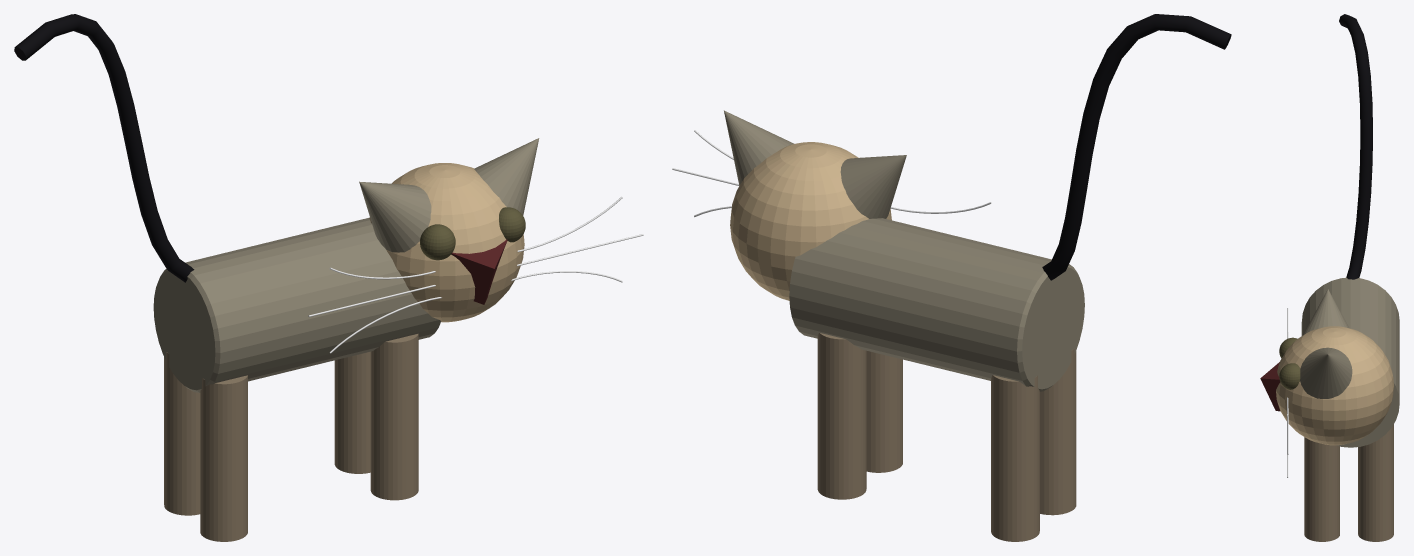
The model's file is Jira_cat.fbx.
3 views of the same model, side by side, from view 1: azimuth 30°, elevation 25°; view 2: azimuth 150°, elevation 25°; view 3: azimuth 270°, elevation 25° (orthographic). The views are drawn at different scales.
Parts seen in each view (by area): view 1: Cylinder, Cylinder.001, Sphere, Sphere.001, BézierCurve, Sphere.002, Cube; view 2: Cylinder, Cylinder.001, Sphere, BézierCurve, Sphere.001; view 3: Sphere, Cylinder.001, Cylinder, BézierCurve, Sphere.001, Sphere.002, Cube.
Boxes of the visible parts, x1,y1,x2,y2 form: Cylinder: (153, 217, 441, 392); Cylinder.001: (164, 333, 418, 541); Sphere: (369, 163, 524, 322); Sphere.001: (359, 138, 539, 252); BézierCurve: (14, 14, 194, 282); Sphere.002: (420, 207, 525, 260); Cube: (451, 239, 507, 304); Cylinder: (789, 218, 1084, 391); Cylinder.001: (817, 333, 1076, 541); Sphere: (730, 142, 891, 300); BézierCurve: (1042, 14, 1231, 280); Sphere.001: (724, 110, 906, 218); Sphere: (1276, 326, 1393, 445); Cylinder.001: (1304, 424, 1393, 541); Cylinder: (1301, 277, 1399, 447); BézierCurve: (1339, 14, 1372, 279); Sphere.001: (1300, 289, 1352, 398); Sphere.002: (1279, 337, 1300, 389); Cube: (1260, 362, 1280, 411).
Size of the model in its own units: 504 by 437 by 139.
